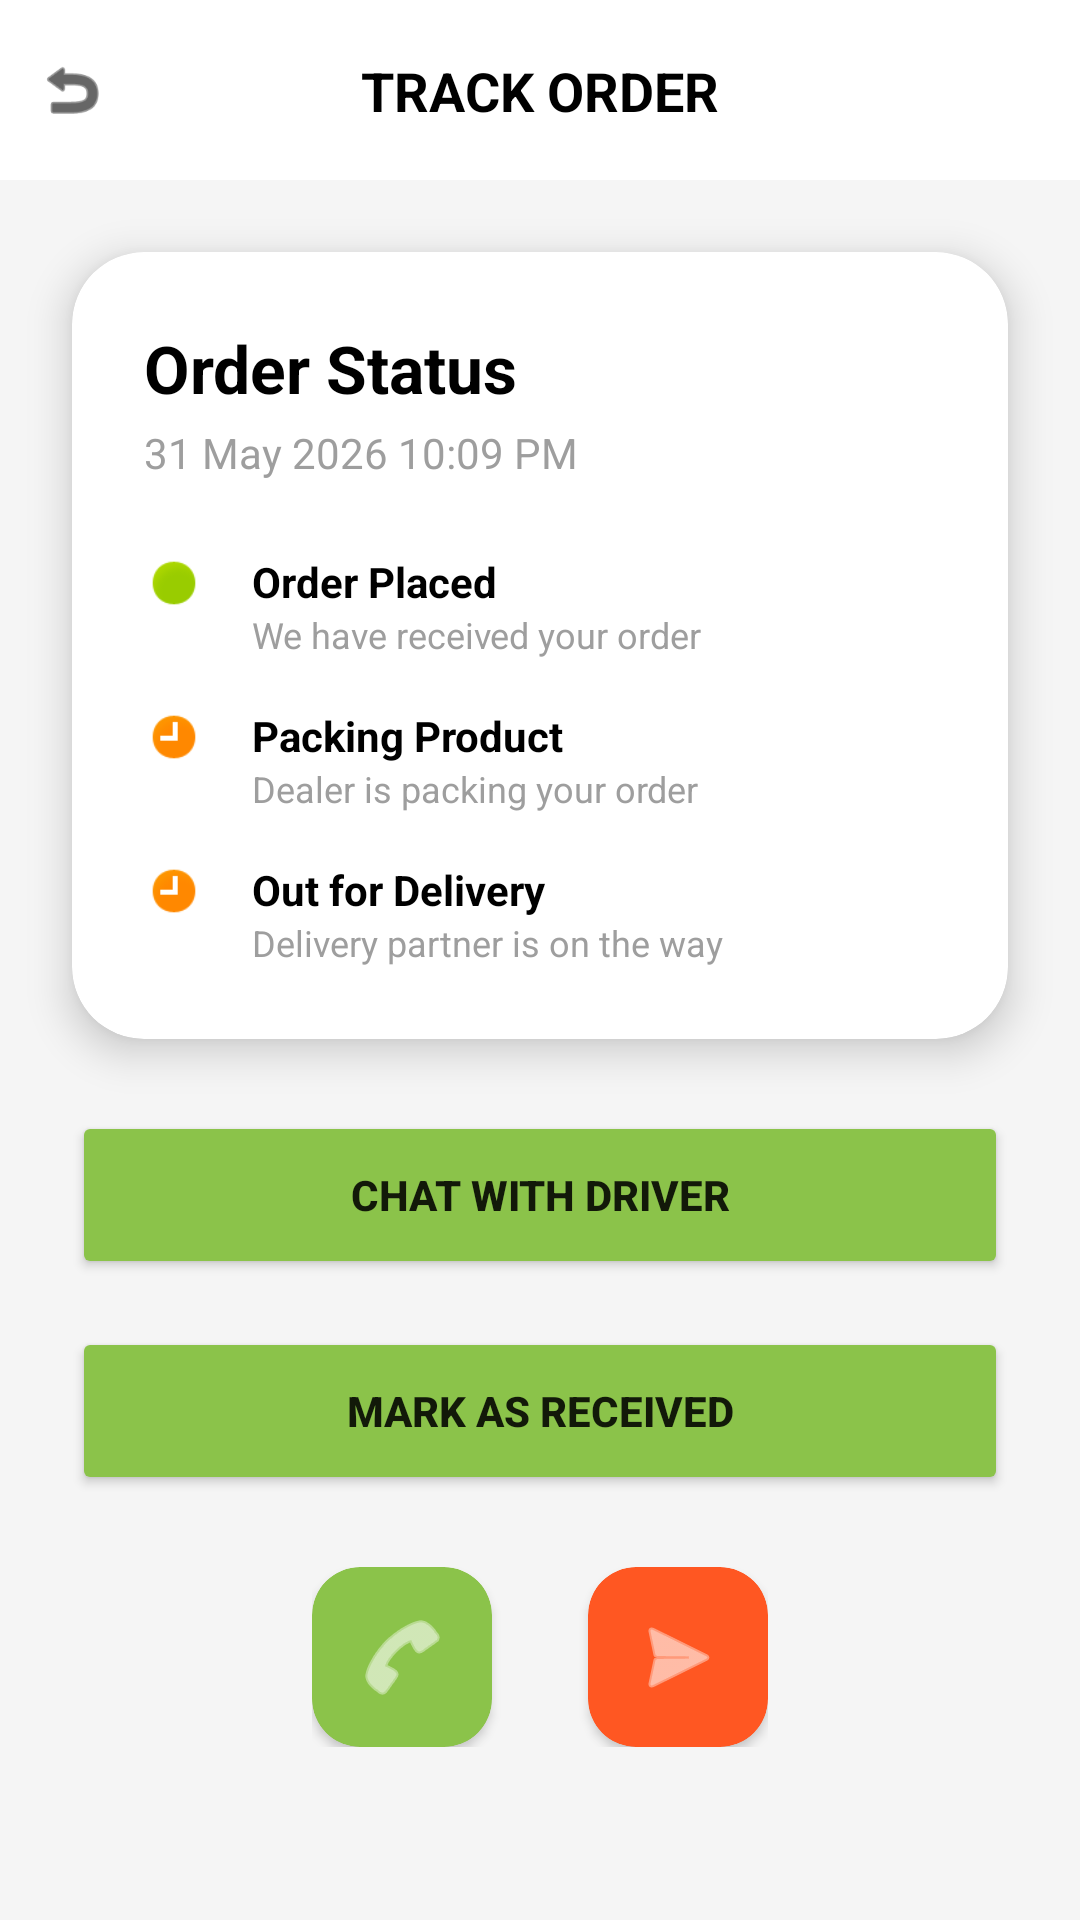

Icon bounding boxes for this 1080w x 1920h phone screenshot, format [x1, y1, x2, y2]:
call: [365, 1620, 440, 1695]
presence away: [152, 715, 196, 759], [152, 869, 196, 913]
presence online: [152, 561, 196, 605]
revert: [47, 67, 99, 114]
send: [648, 1627, 710, 1688]
